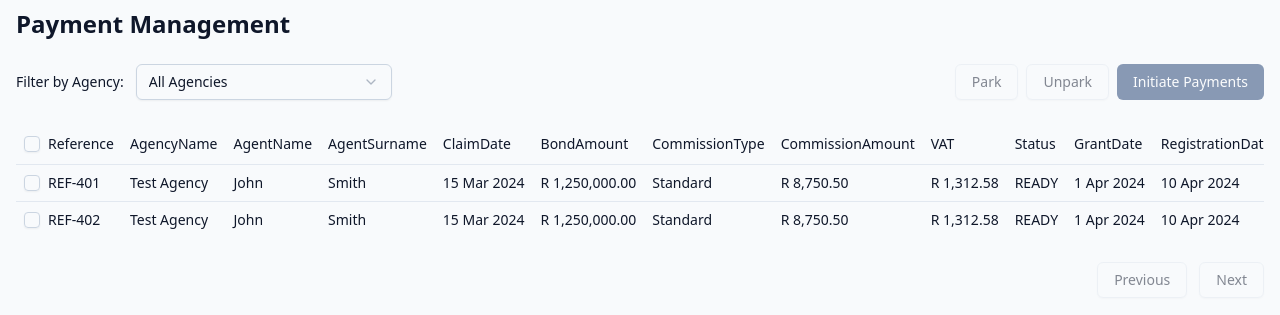
Post-mutation refresh: loading indicator and updated statuses (AC-18, AC-19) › shows a grid loading indicator while the post-park re-fetch is in progress
Click the checkbox named "select payment" at (32, 182), box [24,174,40,190]
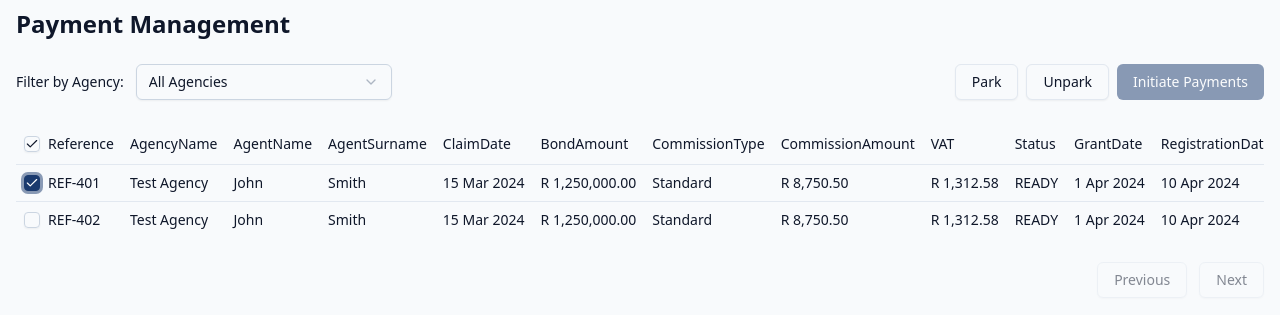
Click the checkbox named "select payment" at (32, 220), box [24,212,40,228]
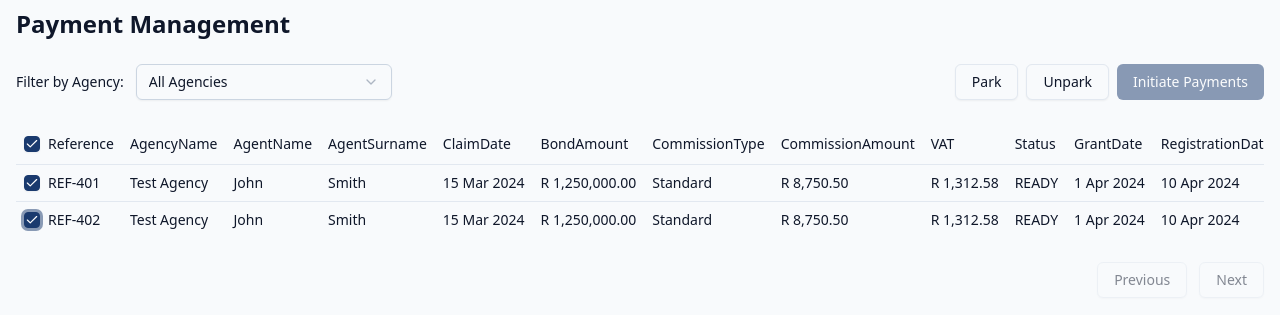
Click the button "Park" at (987, 82), box [955,64,1018,100]
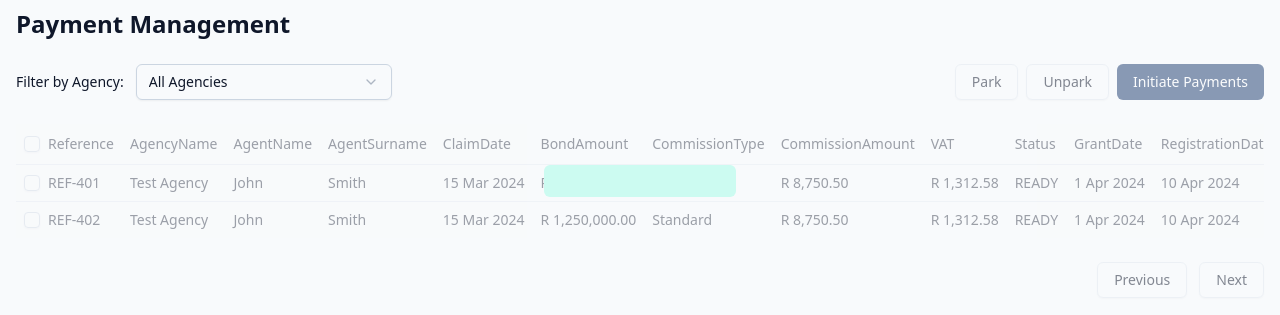
Check: the message is shown, box [16,124,1264,238]
